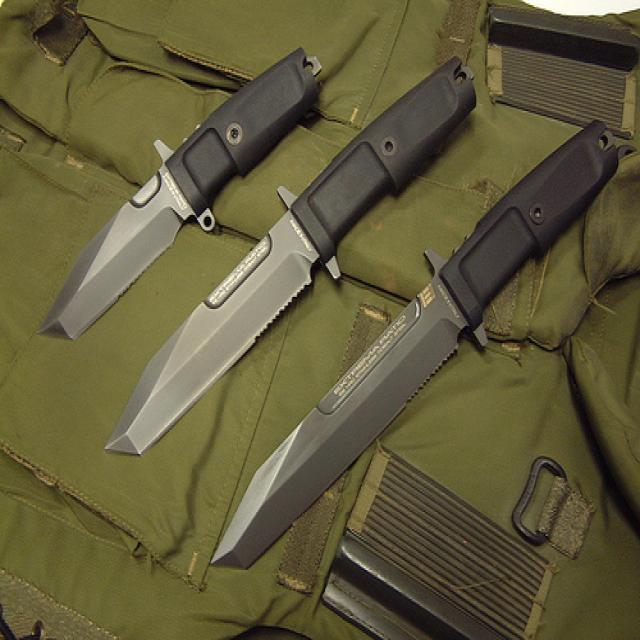knife: (206, 117, 623, 589), (101, 53, 481, 465), (37, 46, 330, 348)
